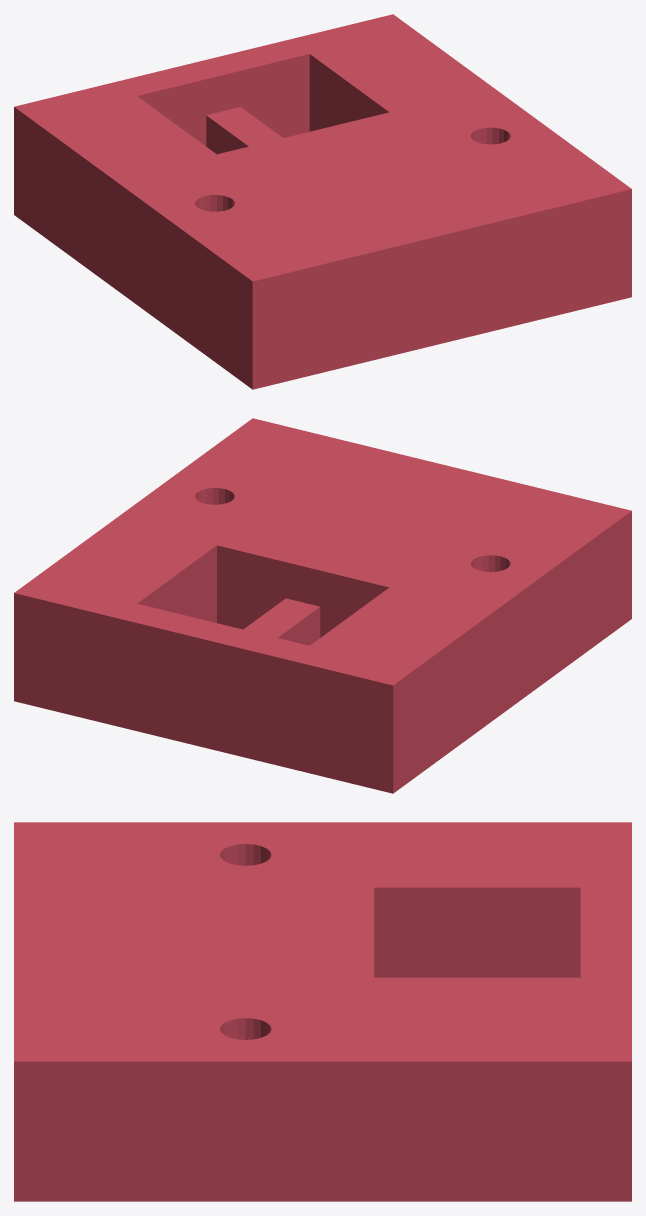
The model's file is Learning the Moves.glb.
3 renders of one model, top to bottom at view 1: azimuth 30°, elevation 25°; view 2: azimuth 150°, elevation 25°; view 3: azimuth 270°, elevation 25°, orthographic. The views are drawn at different scales.
Visible parts, largest first — view 1: Mesh_Mesh_head_geo.001_lambert2SG.001; view 2: Mesh_Mesh_head_geo.001_lambert2SG.001; view 3: Mesh_Mesh_head_geo.001_lambert2SG.001.
Boxes of the visible parts, box(x1,y1,x2,y2) form: Mesh_Mesh_head_geo.001_lambert2SG.001: box(14, 14, 631, 389); Mesh_Mesh_head_geo.001_lambert2SG.001: box(14, 418, 631, 793); Mesh_Mesh_head_geo.001_lambert2SG.001: box(14, 822, 631, 1201).
Bounding box in the file's own units: 11 × 3 × 12.
